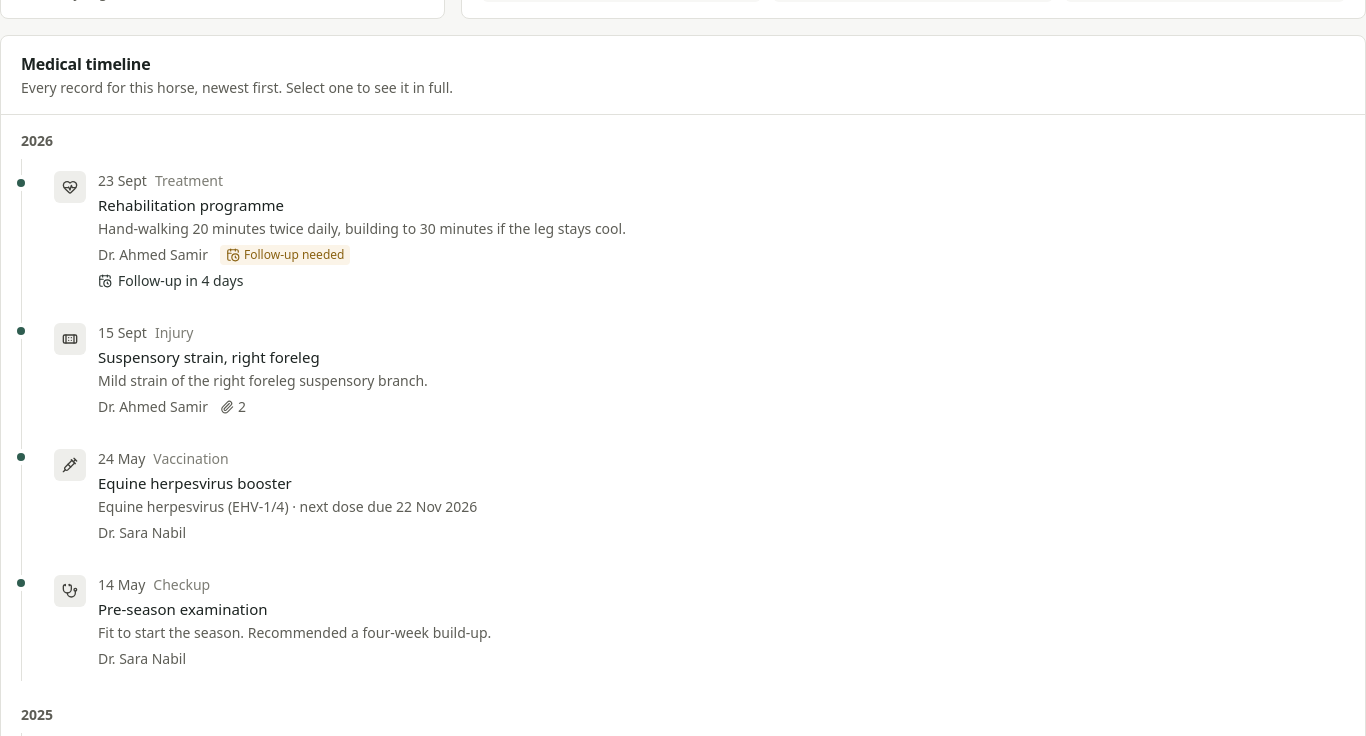
it: HorseMedicalPage › opens a timeline entry in the detail dialog
(page scrolled)
expect the text "Suspensory strain, right foreleg" is shown: met, box [98,347,320,367]
Click the button "Suspensory strain" at x=70, y=339, box [42,313,1345,427]
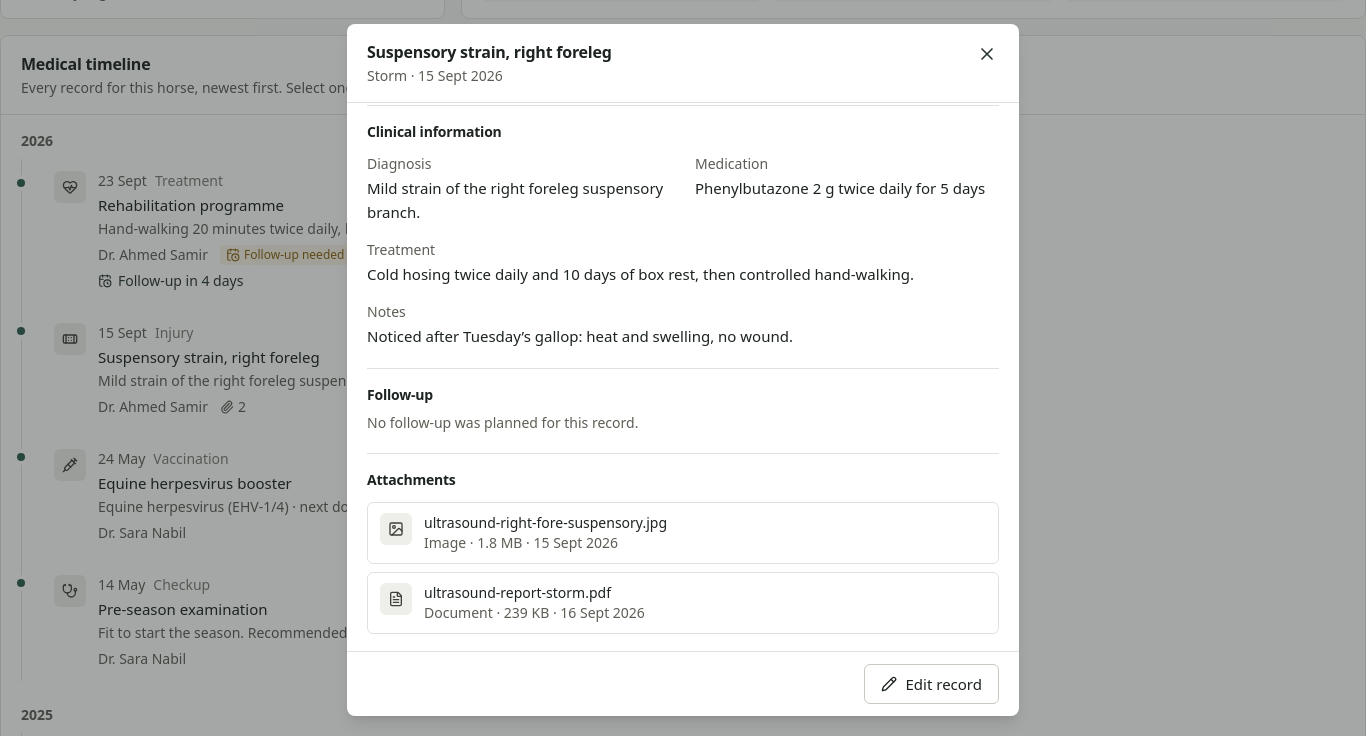
expect the text "Phenylbutazone 2 g twice daily for 5 days" is shown: met, box [695,178,985,198]
expect the text "ultrasound-report-storm.pdf" is shown: met, box [424,583,611,602]
